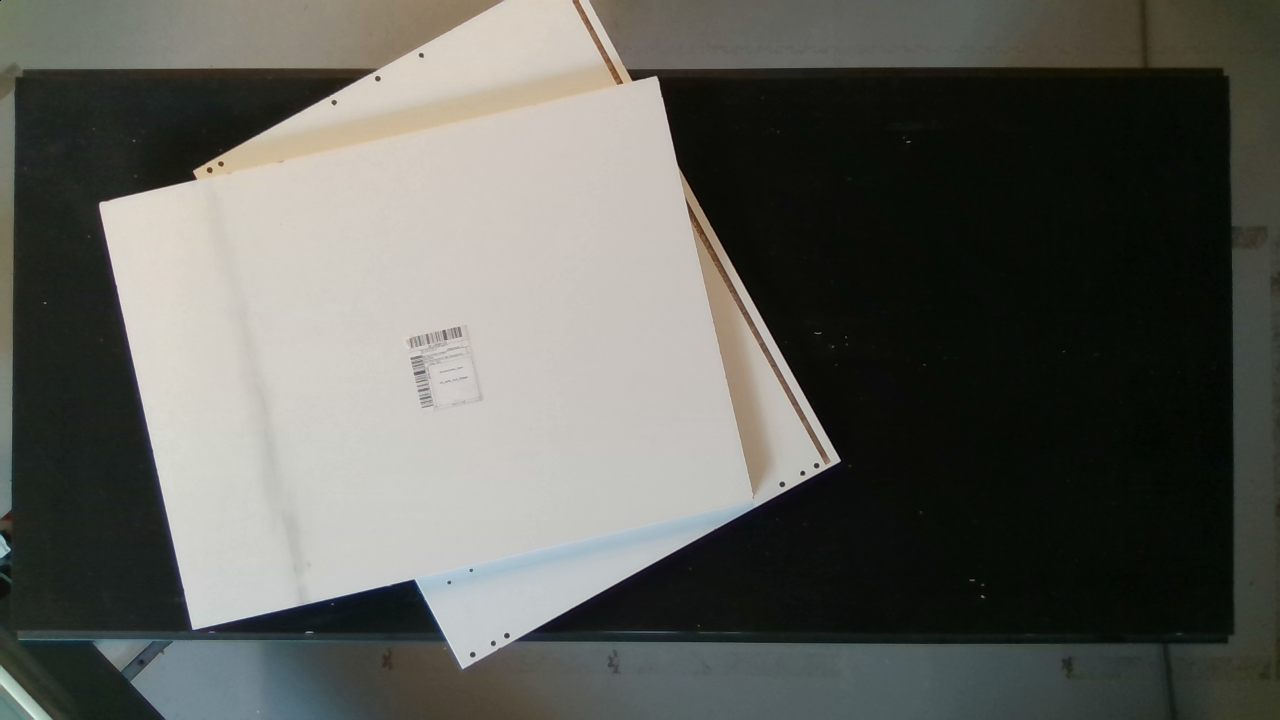barcode: (406, 321, 490, 422)
part2: (93, 68, 767, 627)
